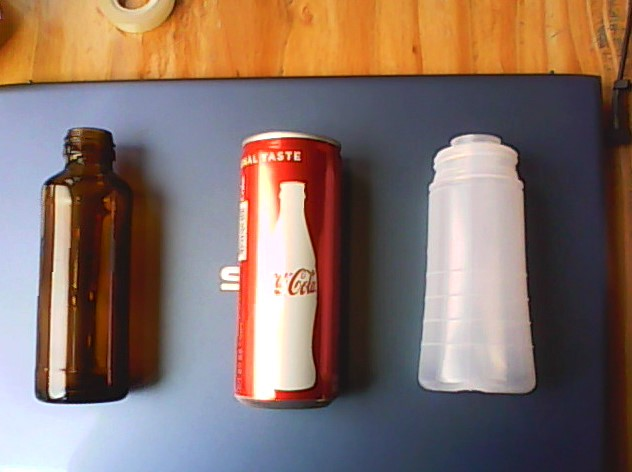Can: (228, 127, 348, 412)
Glass: (27, 119, 135, 408)
Plastic: (410, 127, 540, 400)
